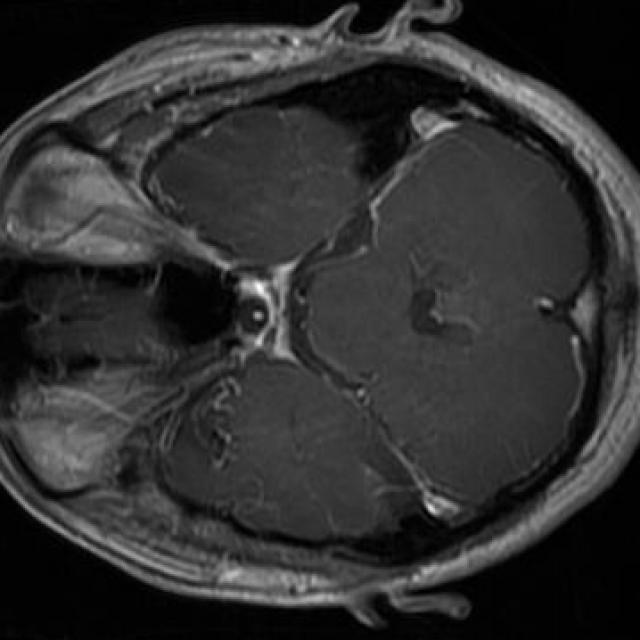glioma: (182, 378, 241, 472)
